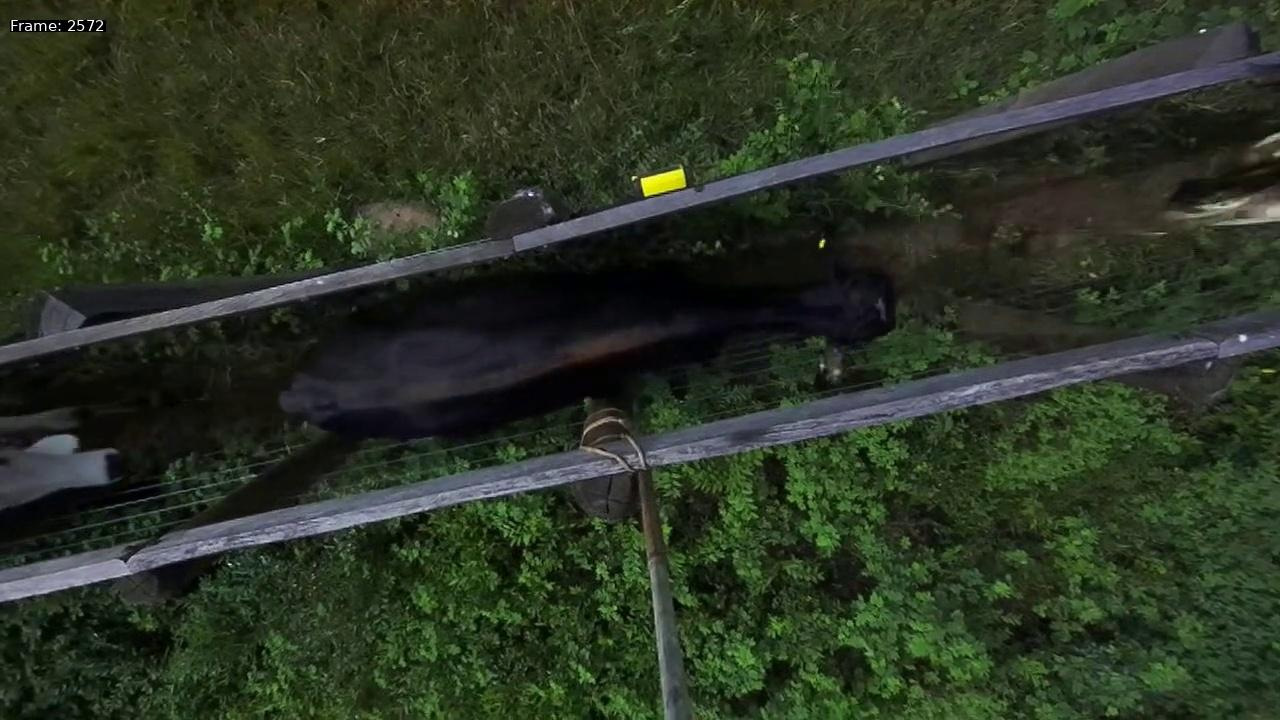cattle: (264, 205, 906, 451)
